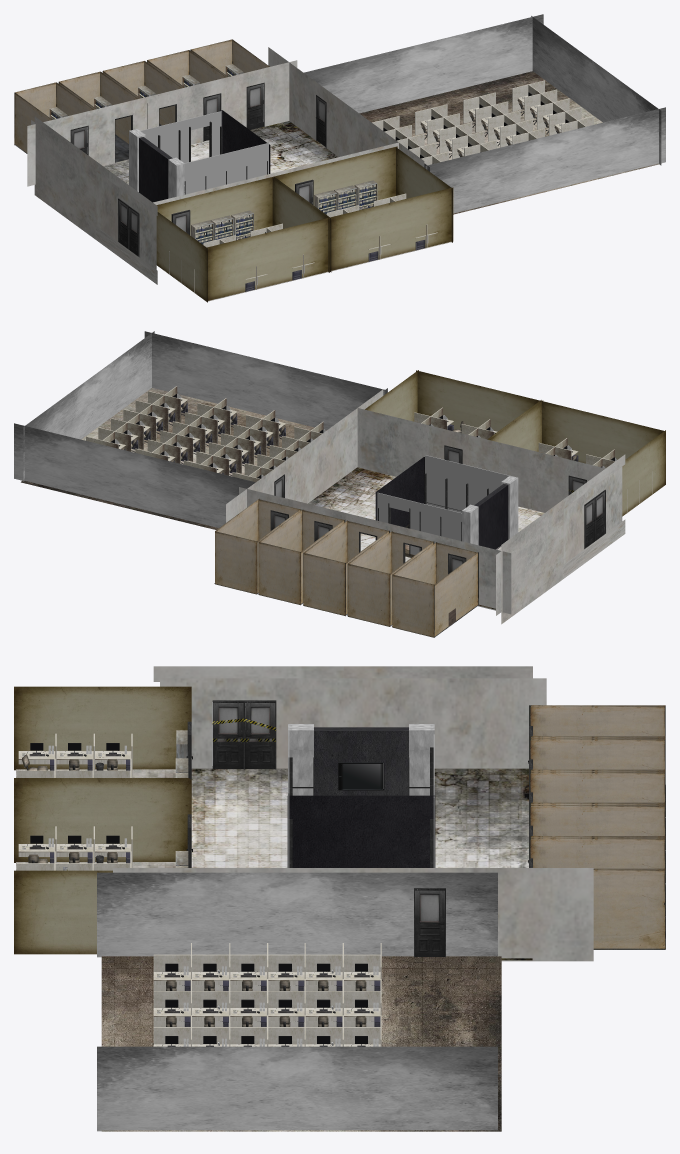
File: office.glb
3 renders of one model, top to bottom at view 1: azimuth 30°, elevation 25°; view 2: azimuth 150°, elevation 25°; view 3: azimuth 270°, elevation 25°, orthographic. The views are drawn at different scales.
Visible parts, largest first — view 1: office_floor; view 2: office_floor; view 3: office_floor.
Part boxes in pixels (x1=…): office_floor: x1=14, y1=14, x2=665, y2=302; office_floor: x1=14, y1=331, x2=665, y2=637; office_floor: x1=14, y1=666, x2=665, y2=1131.
Size of the model in its own units: 32.09 by 4.8 by 23.3.
Materials: 51 (48 with a texture image).
